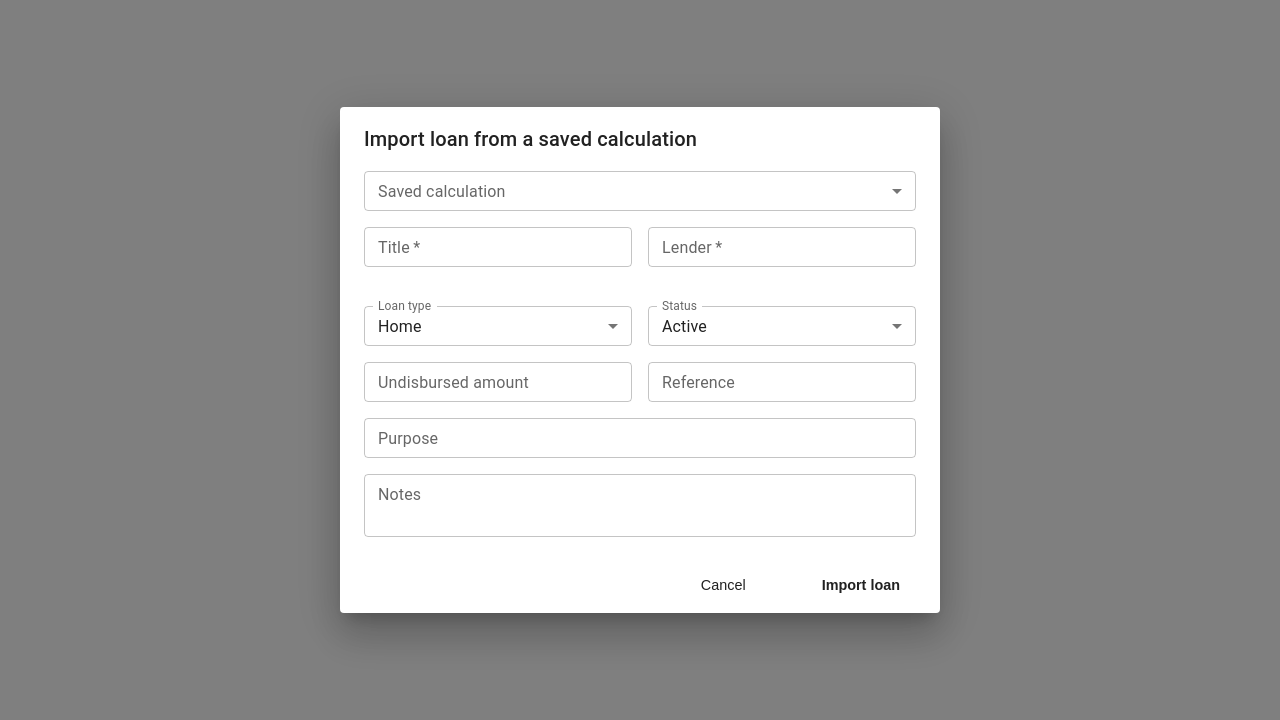
calculations already imported › leaves a scenario alone when the loan it came from is not imported
Step 1. Click the dropdown named "Saved calculation" → (640, 190), box [364, 170, 916, 210]
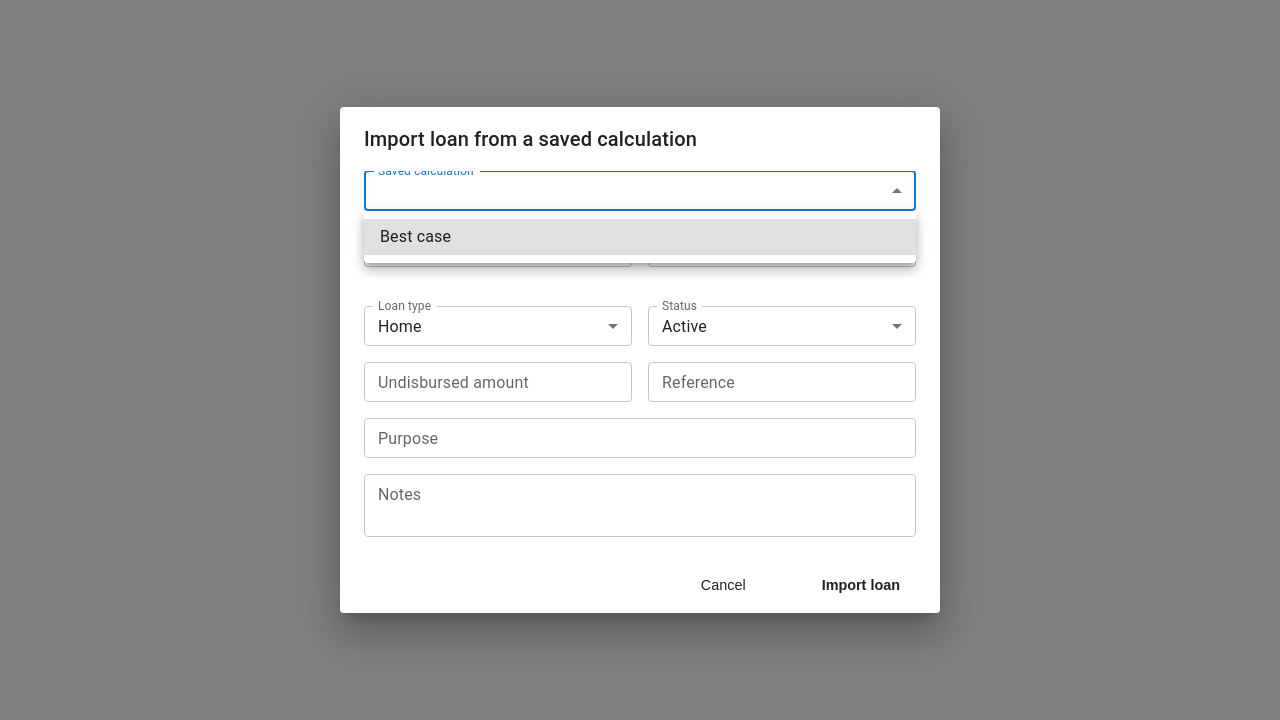
Now the option "Best case" is shown, box [364, 219, 916, 255]
